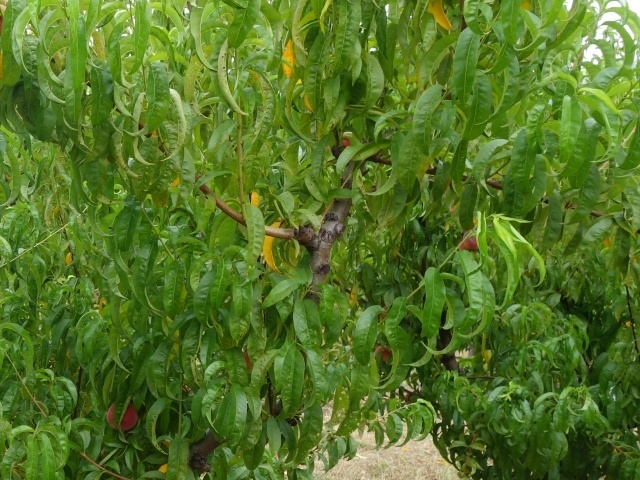peach: (104, 398, 140, 433), (458, 228, 483, 252), (371, 342, 393, 365)
